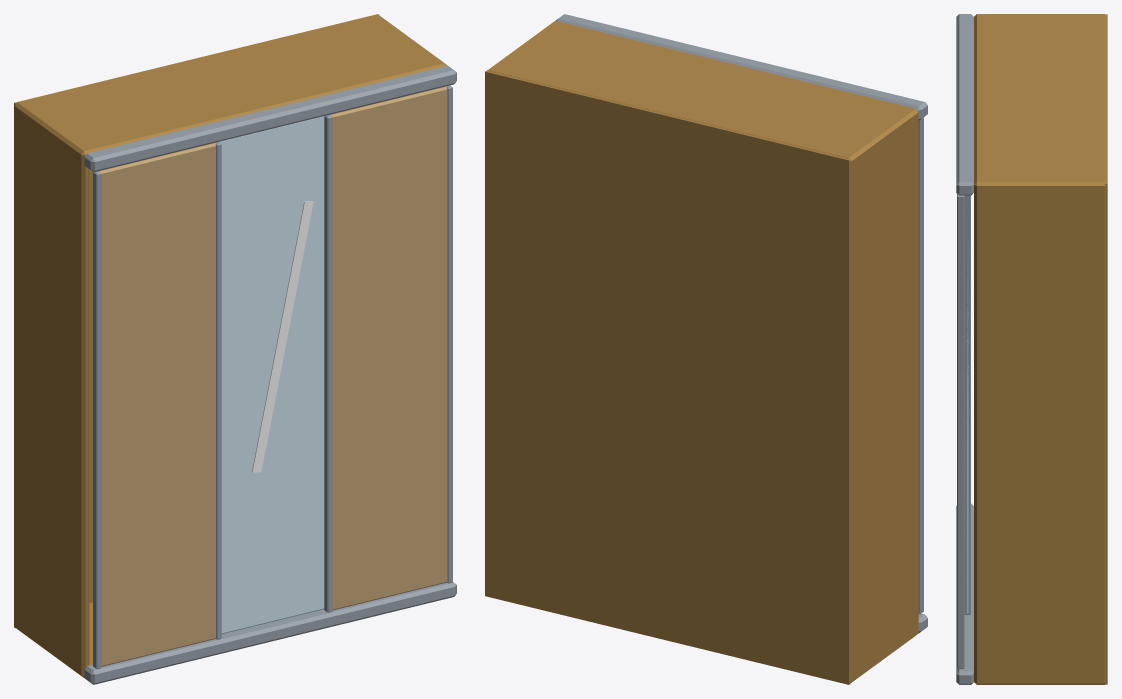
File: sliding_wardrobe_tall.glb
3 views of the same model, side by side, from view 1: azimuth 30°, elevation 25°; view 2: azimuth 150°, elevation 25°; view 3: azimuth 270°, elevation 25° (orthographic). The views are drawn at different scales.
Parts seen in each view (by area): view 1: sliding_wardrobe_tall_Body; view 2: sliding_wardrobe_tall_Body; view 3: sliding_wardrobe_tall_Body.
Boxes of the visible parts, bbox=[...] form: sliding_wardrobe_tall_Body: bbox=[14, 14, 456, 684]; sliding_wardrobe_tall_Body: bbox=[485, 14, 927, 684]; sliding_wardrobe_tall_Body: bbox=[956, 14, 1107, 684].
Size of the model in its own units: 1.6 by 2.2 by 0.6.
